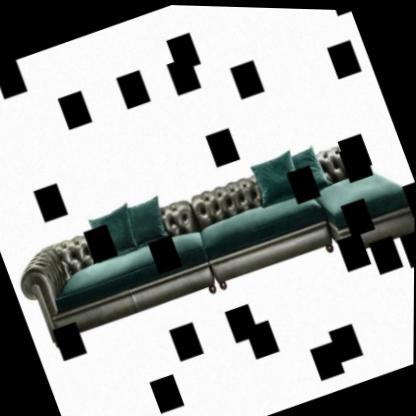Sofa: (32, 119, 404, 347)
